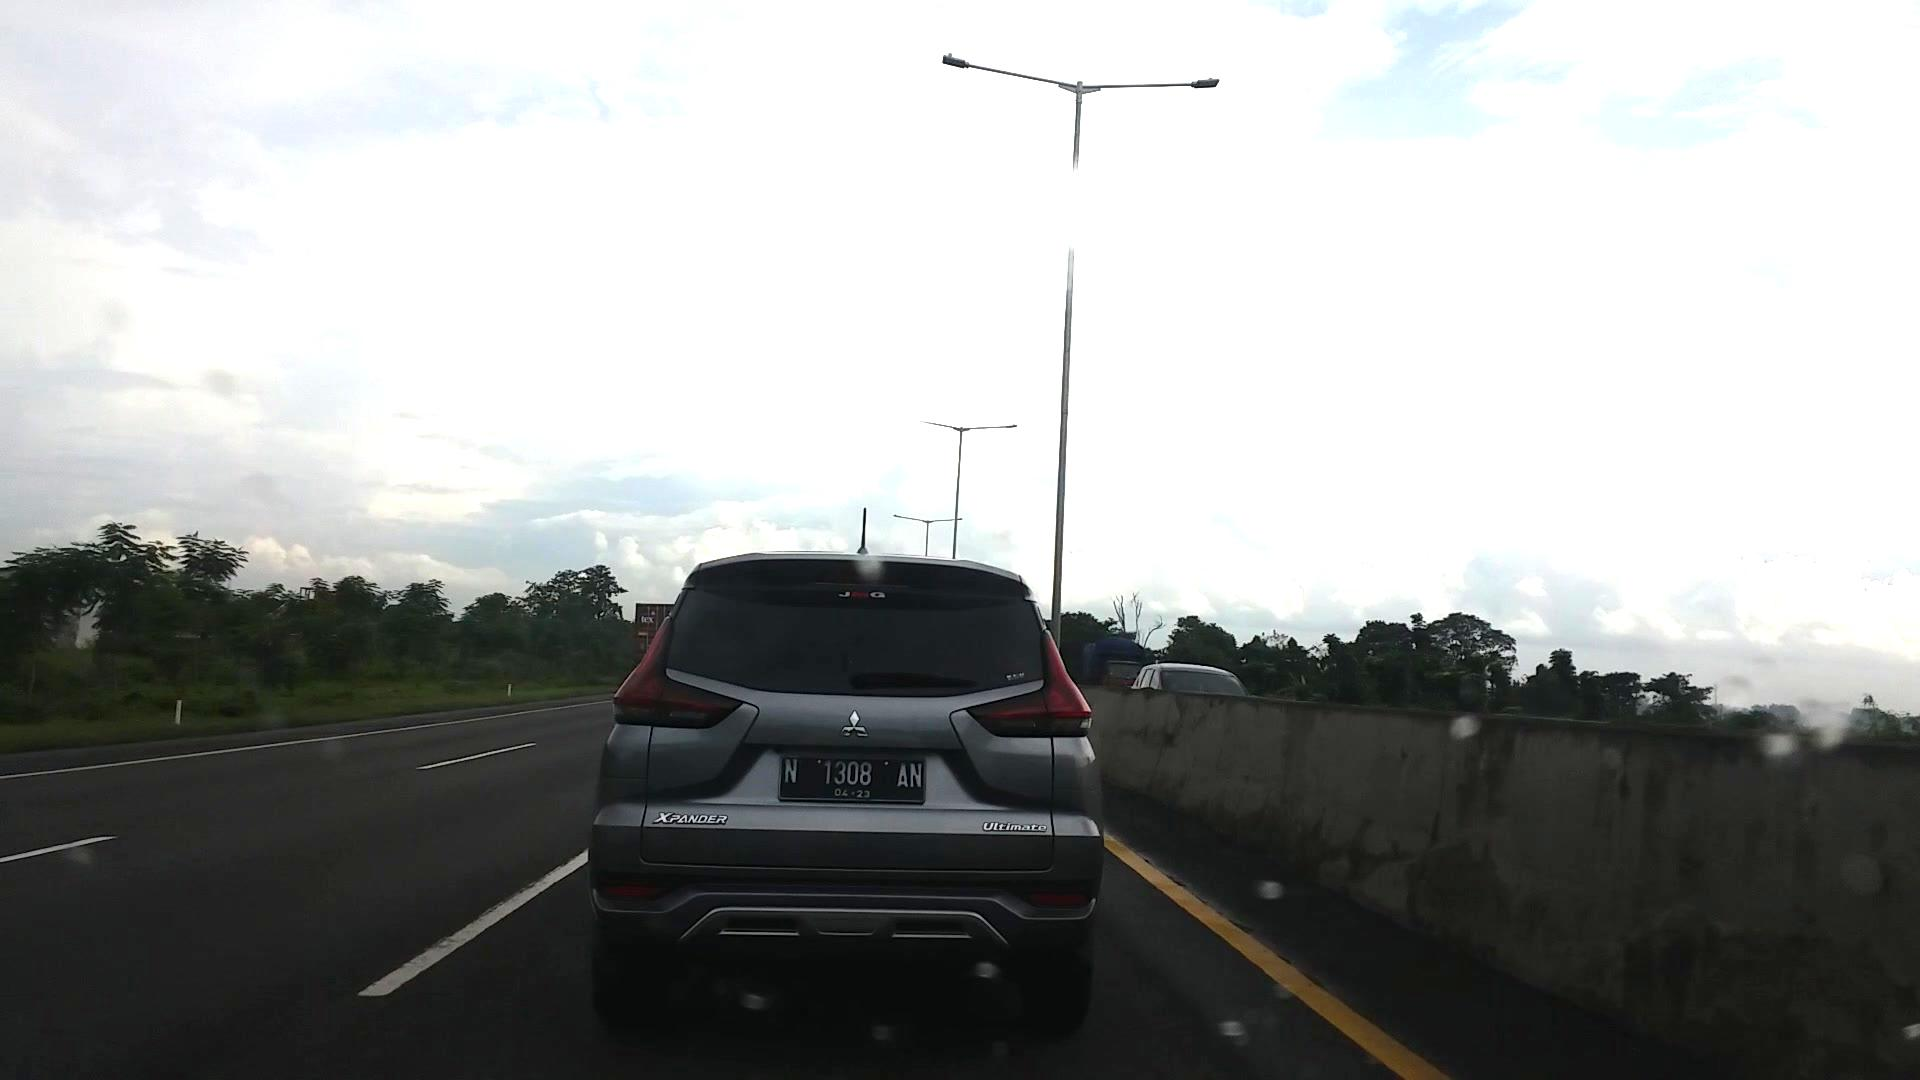plate_positive: (778, 754, 926, 804)
